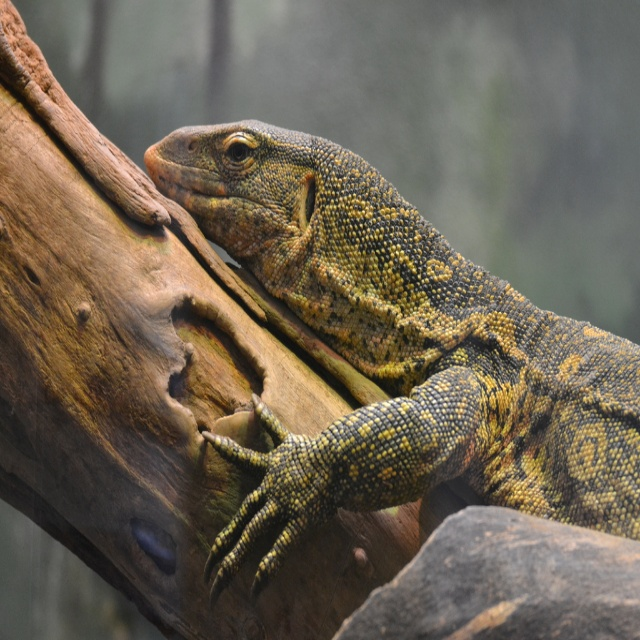Lizard: (124, 115, 633, 615)
